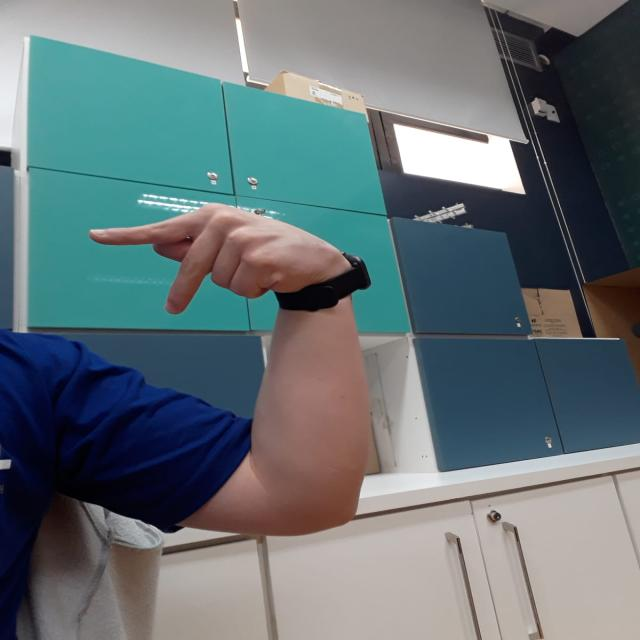P: (82, 200, 338, 322)
